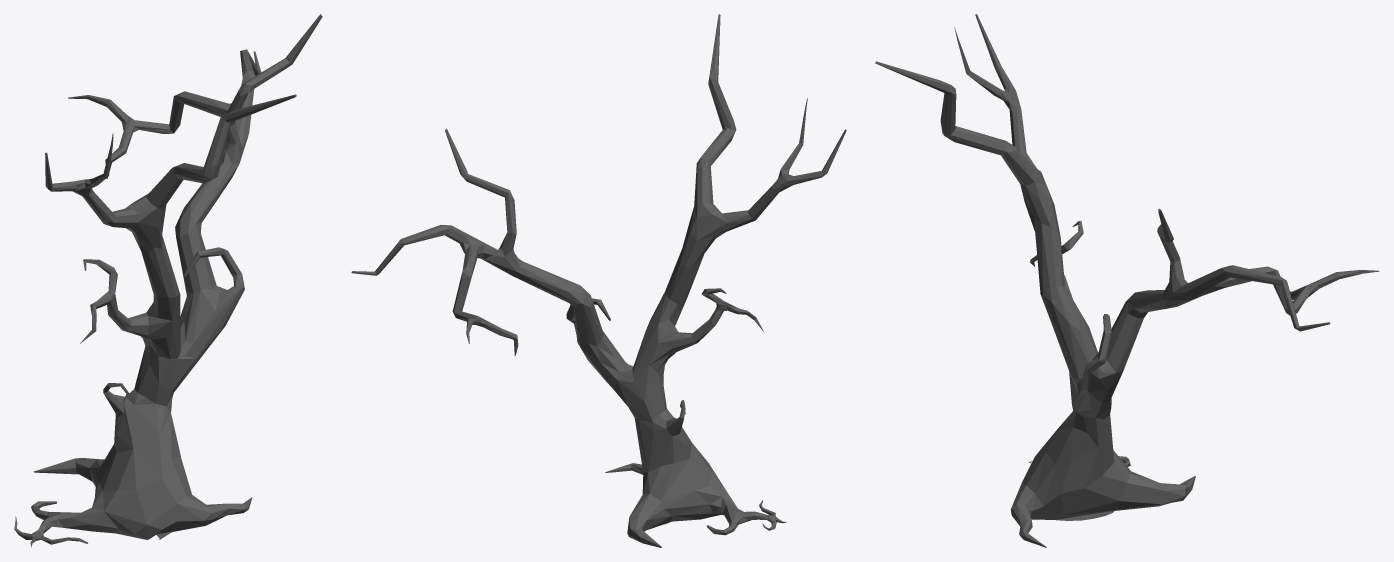
File: HWN20_Tree_09.glb
3 views of the same model, side by side, from view 1: azimuth 30°, elevation 25°; view 2: azimuth 150°, elevation 25°; view 3: azimuth 270°, elevation 25° (orthographic). The views are drawn at different scales.
Visible parts, largest first — view 1: HWN20_Tree_09; view 2: HWN20_Tree_09; view 3: HWN20_Tree_09.
Part boxes in pixels (box(x1,y1,x2,y2)): HWN20_Tree_09: box(14, 14, 322, 547); HWN20_Tree_09: box(351, 14, 846, 547); HWN20_Tree_09: box(875, 14, 1379, 547).
Size of what is drawn, in the model's own units: 5.27 by 6.26 by 6.04.
Materials: 1 (1 with a texture image).
